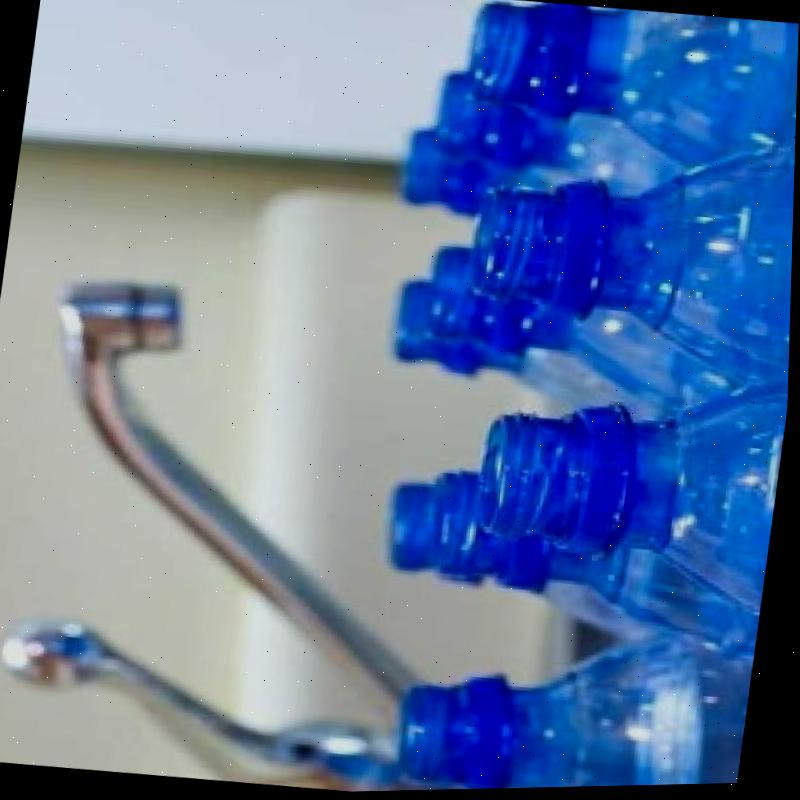botella: (465, 119, 797, 399), (470, 358, 791, 631), (398, 606, 761, 793), (422, 460, 762, 653), (457, 0, 800, 187), (417, 240, 742, 431), (385, 269, 659, 420), (431, 63, 706, 200), (380, 472, 494, 594), (398, 122, 497, 220)
